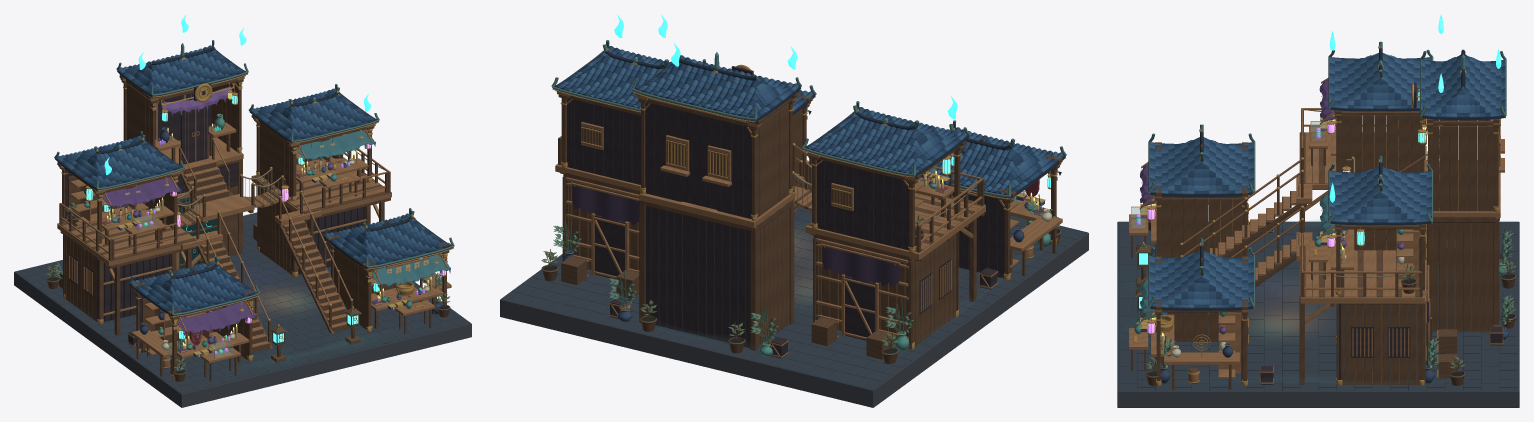
The model's file is ghost-stack-v13.glb.
3 views of the same model, side by side, from view 1: azimuth 30°, elevation 25°; view 2: azimuth 150°, elevation 25°; view 3: azimuth 270°, elevation 25° (orthographic). The views are drawn at different scales.
Parts seen in each view (by area): view 1: SM_GS5_MAT_GS5_DarkTimber.004, SM_GS5_MAT_GS5_WoodTrim.004, SM_GS5_MAT_GS5_PavingWithBakedLanternPools.004, SM_GS5_MAT_GS5_DarkFoundation.004, SM_GS5_MAT_GS5_SourceGlazedBlueTile2, SM_GS5_MAT_GS5_SourceGlazedBlueTile3, SM_GS5_MAT_GS5_InsetTimber.004, SM_GS5_MAT_GS5_SourceGlazedBlueTile1, SM_GS5_MAT_GS5_SourceGlazedBlueTile0, SM_GS5_MAT_GS5_AgedBronze.004, SM_GS5_MAT_GS5_PurpleCloth.004, SM_GS5_MAT_GS5_TealCloth.004 (+14 smaller); view 2: SM_GS5_MAT_GS5_InsetTimber.004, SM_GS5_MAT_GS5_DarkTimber.004, SM_GS5_MAT_GS5_PavingWithBakedLanternPools.004, SM_GS5_MAT_GS5_WoodTrim.004, SM_GS5_MAT_GS5_DarkFoundation.004, SM_GS5_MAT_GS5_SourceGlazedBlueTile3, SM_GS5_MAT_GS5_SourceGlazedBlueTile2, SM_GS5_MAT_GS5_SourceGlazedBlueTile1, SM_GS5_MAT_GS5_SourceGlazedBlueTile0, SM_GS5_MAT_GS5_BackTornPurpleCloth.002, SM_GS5_MAT_GS5_AgedBronze.004, SM_GS5_MAT_GS5_Grout.004 (+6 smaller); view 3: SM_GS5_MAT_GS5_DarkTimber.004, SM_GS5_MAT_GS5_PavingWithBakedLanternPools.004, SM_GS5_MAT_GS5_WoodTrim.004, SM_GS5_MAT_GS5_SourceGlazedBlueTile0, SM_GS5_MAT_GS5_SourceGlazedBlueTile3, SM_GS5_MAT_GS5_SourceGlazedBlueTile1, SM_GS5_MAT_GS5_SourceGlazedBlueTile2, SM_GS5_MAT_GS5_DarkFoundation.004, SM_GS5_MAT_GS5_Grout.004, SM_GS5_MAT_GS5_AgedBronze.004, SM_GS5_MAT_GS5_InsetTimber.004, SM_GS5_MAT_GS5_AgedJadeRoofEdge.004 (+10 smaller).
Part boxes in pixels (x1,y1,x2,y2): SM_GS5_MAT_GS5_DarkTimber.004: (46,75,451,381); SM_GS5_MAT_GS5_WoodTrim.004: (57,76,451,368); SM_GS5_MAT_GS5_PavingWithBakedLanternPools.004: (15,212,470,393); SM_GS5_MAT_GS5_DarkFoundation.004: (14,272,471,407); SM_GS5_MAT_GS5_SourceGlazedBlueTile2: (58,48,445,313); SM_GS5_MAT_GS5_SourceGlazedBlueTile3: (61,47,447,312); SM_GS5_MAT_GS5_InsetTimber.004: (65,83,365,352); SM_GS5_MAT_GS5_SourceGlazedBlueTile1: (57,49,449,313); SM_GS5_MAT_GS5_SourceGlazedBlueTile0: (64,45,451,311); SM_GS5_MAT_GS5_AgedBronze.004: (61,71,453,379); SM_GS5_MAT_GS5_PurpleCloth.004: (102,138,381,352); SM_GS5_MAT_GS5_TealCloth.004: (297,130,450,288); SM_GS5_MAT_GS5_InsetTimber.004: (567,66,1004,358); SM_GS5_MAT_GS5_DarkTimber.004: (541,91,1062,363); SM_GS5_MAT_GS5_PavingWithBakedLanternPools.004: (501,206,1087,389); SM_GS5_MAT_GS5_WoodTrim.004: (555,91,1062,358); SM_GS5_MAT_GS5_DarkFoundation.004: (500,232,1088,407); SM_GS5_MAT_GS5_SourceGlazedBlueTile3: (560,47,1057,193); SM_GS5_MAT_GS5_SourceGlazedBlueTile2: (561,49,1059,194); SM_GS5_MAT_GS5_SourceGlazedBlueTile1: (557,49,1063,194); SM_GS5_MAT_GS5_SourceGlazedBlueTile0: (555,46,1053,192); SM_GS5_MAT_GS5_BackTornPurpleCloth.002: (572,185,898,286); SM_GS5_MAT_GS5_AgedBronze.004: (552,48,1065,349); SM_GS5_MAT_GS5_Grout.004: (509,209,1085,386); SM_GS5_MAT_GS5_DarkTimber.004: (1131,108,1516,389); SM_GS5_MAT_GS5_PavingWithBakedLanternPools.004: (1118,221,1518,391); SM_GS5_MAT_GS5_WoodTrim.004: (1129,78,1504,383); SM_GS5_MAT_GS5_SourceGlazedBlueTile0: (1149,53,1505,307); SM_GS5_MAT_GS5_SourceGlazedBlueTile3: (1149,54,1505,308); SM_GS5_MAT_GS5_SourceGlazedBlueTile1: (1149,55,1505,308); SM_GS5_MAT_GS5_SourceGlazedBlueTile2: (1149,55,1505,308); SM_GS5_MAT_GS5_DarkFoundation.004: (1117,222,1519,407); SM_GS5_MAT_GS5_Grout.004: (1119,222,1517,390); SM_GS5_MAT_GS5_AgedBronze.004: (1131,45,1506,386); SM_GS5_MAT_GS5_InsetTimber.004: (1242,82,1502,384); SM_GS5_MAT_GS5_AgedJadeRoofEdge.004: (1148,41,1506,307).
Size of the model in its own units: 10 by 7.83 by 10.
Materials: 57 (9 with a texture image).
